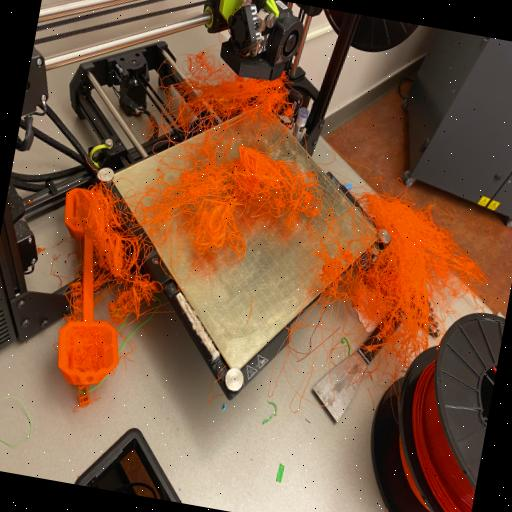spaghetti: (128, 36, 340, 266), (25, 164, 168, 425), (322, 170, 488, 362)
